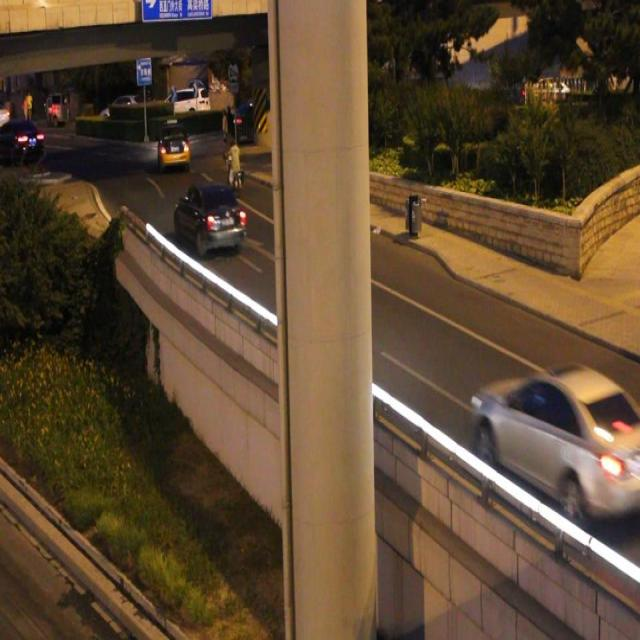car: (470, 363, 640, 518), (173, 180, 246, 253)
